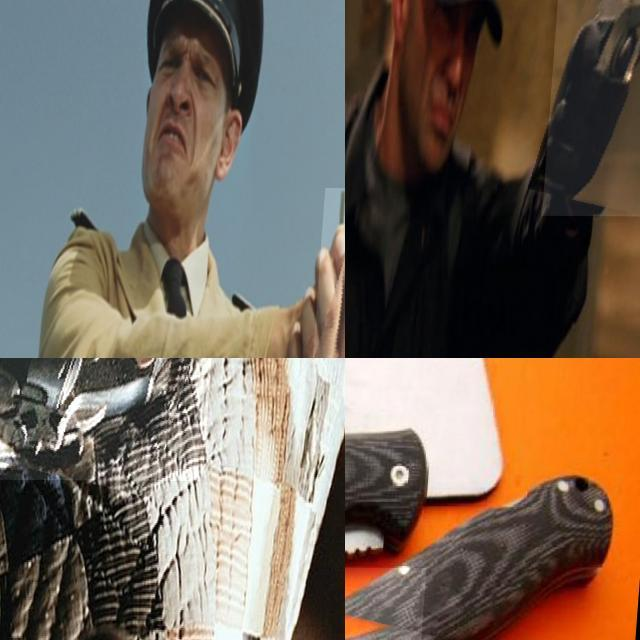gun-knife-thesis - v11 Yolov5 augmented: (0, 358, 228, 524), (546, 0, 640, 216)
